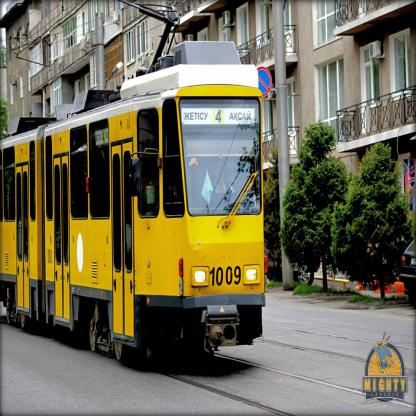Car: (263, 245, 320, 287), (399, 239, 415, 309)
